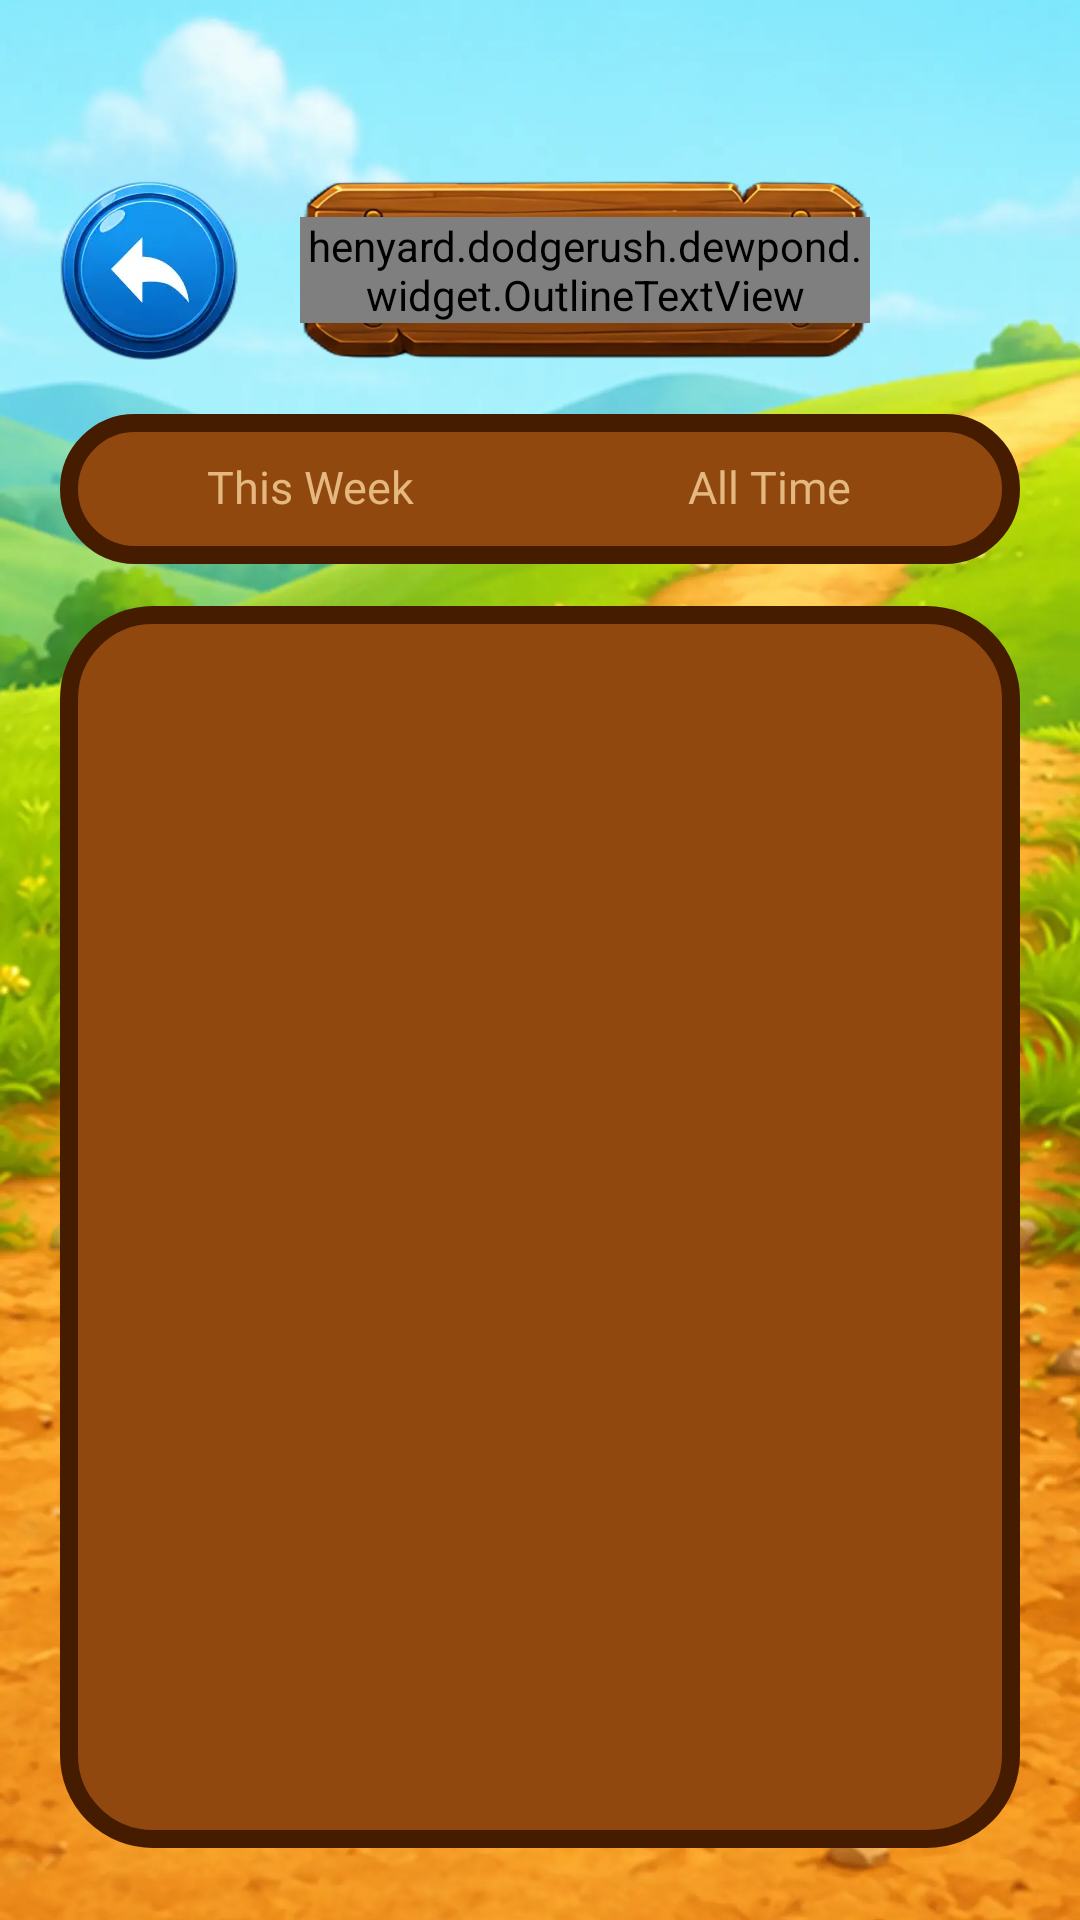

Icon bounding boxes for this 1080 x 1920 phone screenshot, format (x1, y1, x2, y2):
Back: (61, 182, 238, 360)
